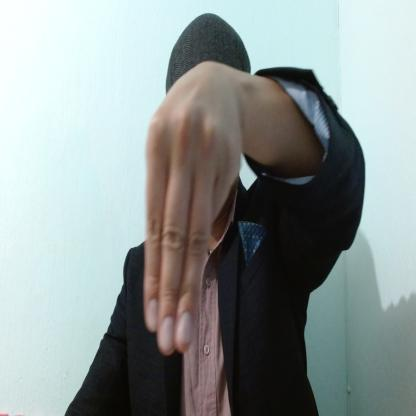M: (143, 64, 244, 357)
